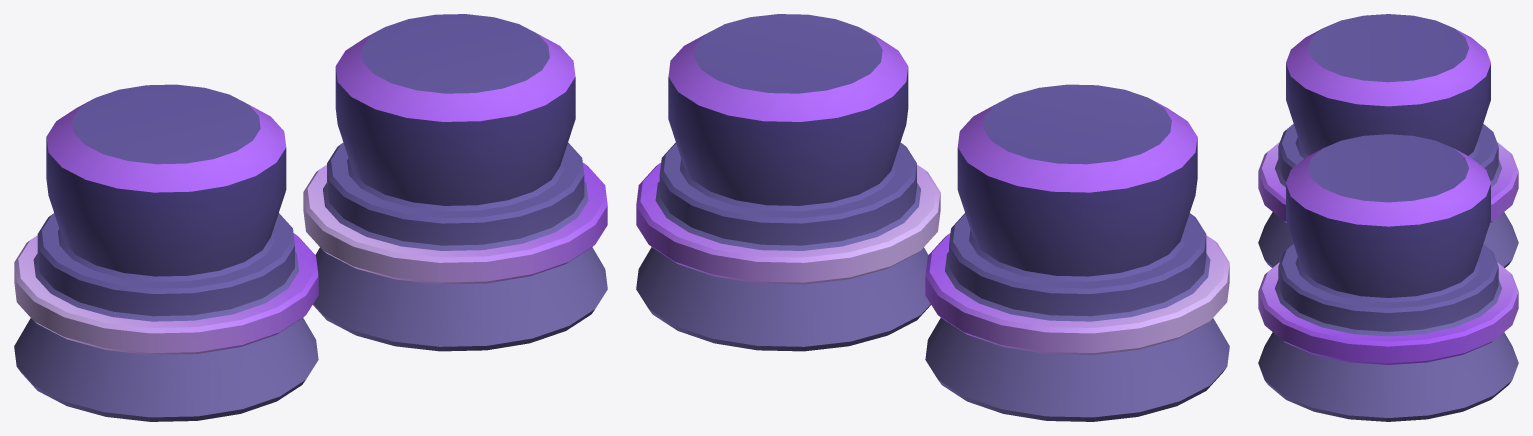
File: Jet_V1.fbx
3 renders of one model, left to right at view 1: azimuth 30°, elevation 25°; view 2: azimuth 150°, elevation 25°; view 3: azimuth 270°, elevation 25°, orthographic. The views are drawn at different scales.
Parts seen in each view (by area): view 1: Jet_V1_L, Jet_V1_R; view 2: Jet_V1_L, Jet_V1_R; view 3: Jet_V1_R, Jet_V1_L.
Boxes of the visible parts, box(x1,y1,x2,y2) form: Jet_V1_L: box(14, 84, 318, 421); Jet_V1_R: box(303, 14, 607, 351); Jet_V1_L: box(925, 84, 1229, 421); Jet_V1_R: box(636, 14, 940, 351); Jet_V1_R: box(1258, 134, 1518, 421); Jet_V1_L: box(1258, 14, 1518, 267).
Size of the model in its own units: 123 by 49.92 by 58.93.
